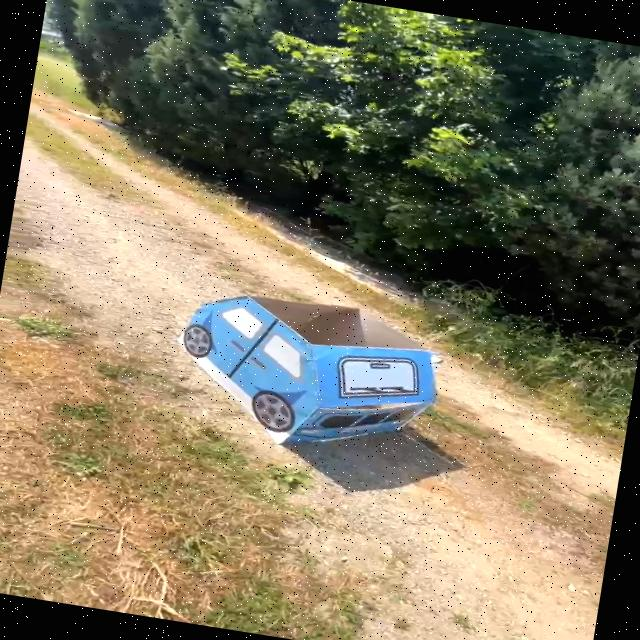blue_car: (132, 258, 468, 481)
